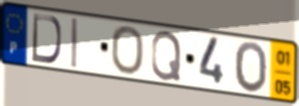4: (197, 34, 229, 90)
D: (30, 12, 64, 66)
I: (70, 16, 80, 70)
O: (233, 40, 269, 95), (109, 24, 146, 77)
Q: (150, 29, 183, 83)
